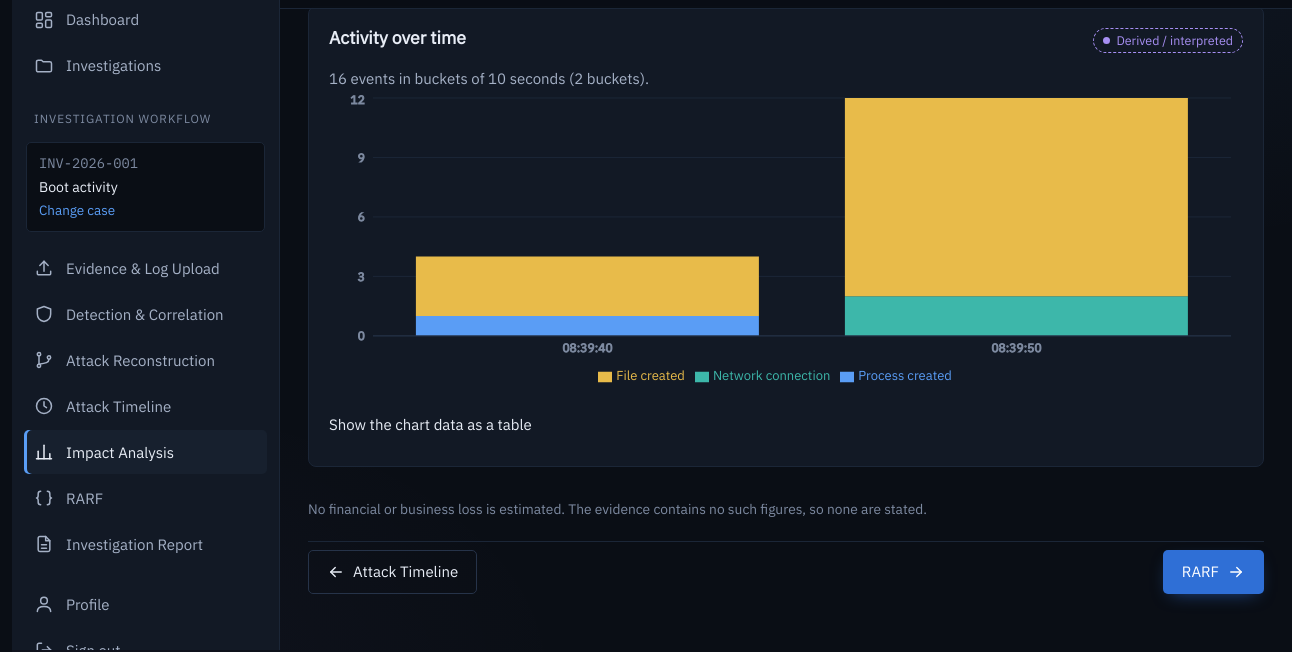
it: Impact: derived figures and the chart › describes the chart in words and gives its data as a table
The image size is (1292, 652).
(page scrolled)
Check: the text "16 events in buckets of 10 seconds (2 buckets)." is shown, box [329,69,649,88]
Check: the picture named "Events over time in buckets of 10 seconds, by event type" is shown, box [329,90,1243,390]
Click the heading "Show the chart data as a table". click: (430, 424)
box: [329,415,532,434]
(page scrolled)
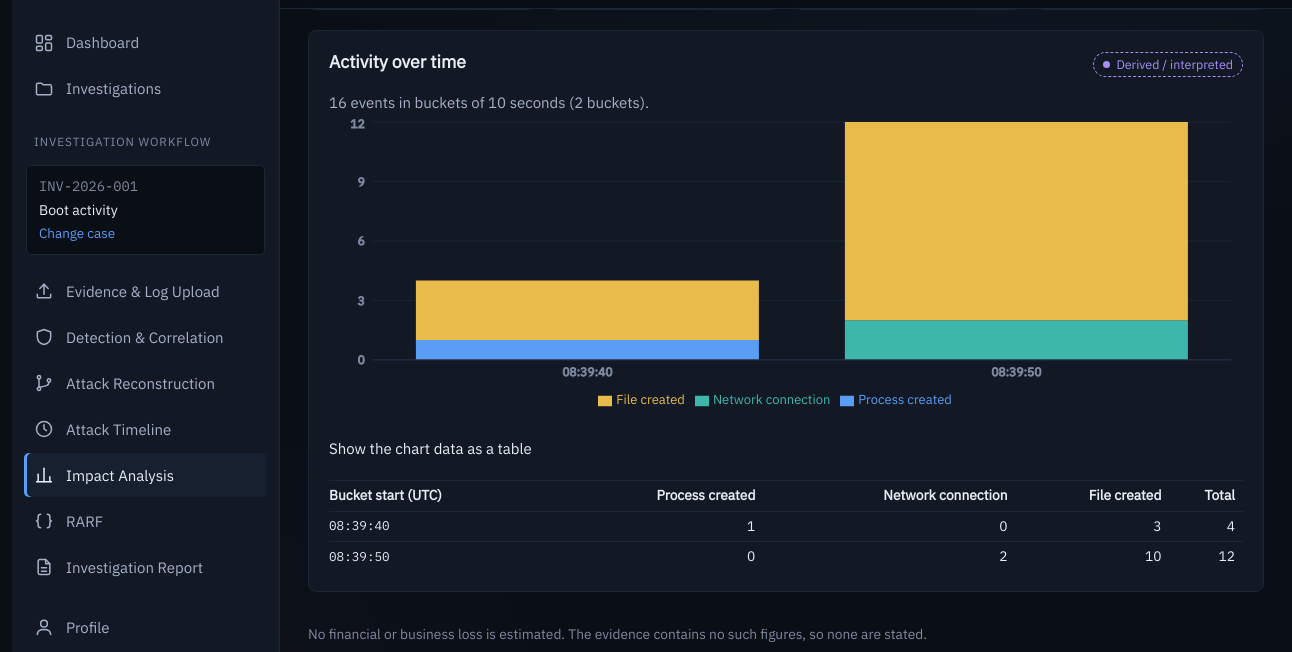
Check: the row "08:39:40 1 0 3 4" is shown, box [329,511,1243,541]
Check: the row "08:39:50 0 2 10 12" is shown, box [329,541,1243,571]
